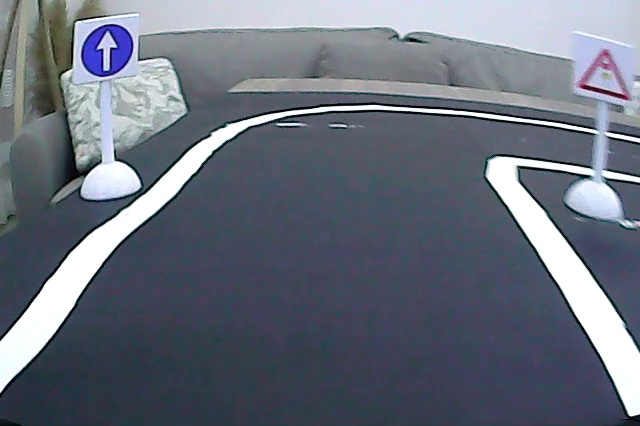red light: (573, 43, 634, 107)
